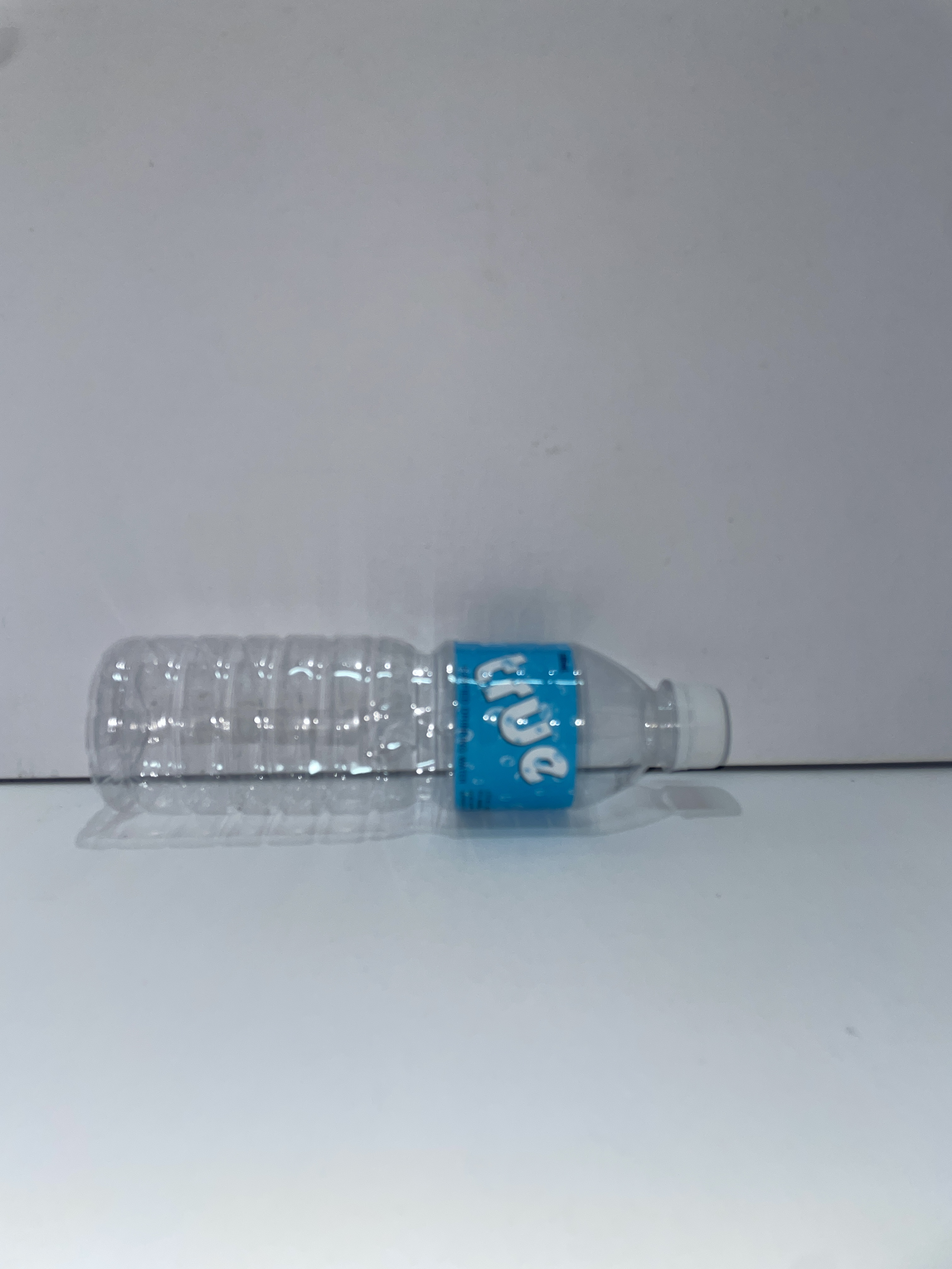True 500ml: (87, 635, 731, 827)
